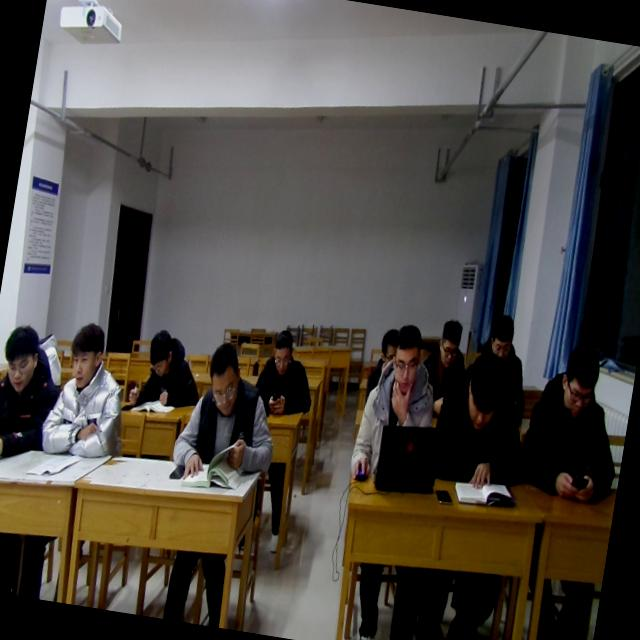down: (198, 339, 257, 426), (553, 339, 610, 423), (460, 354, 509, 430), (0, 318, 45, 397), (387, 321, 428, 394), (144, 324, 178, 379), (432, 312, 464, 370), (267, 331, 298, 382), (486, 312, 520, 358), (376, 323, 403, 366)
lookup: (64, 321, 108, 395)
sit: (518, 336, 636, 507), (168, 336, 290, 490), (348, 318, 448, 496), (423, 345, 538, 499), (36, 316, 140, 465), (0, 319, 68, 472), (124, 319, 210, 412), (466, 308, 542, 412), (251, 324, 324, 422), (415, 315, 475, 416), (362, 322, 404, 414)
